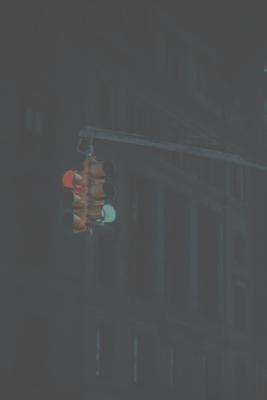International Road Signal Light: (85, 158, 118, 233), (60, 165, 87, 234)
